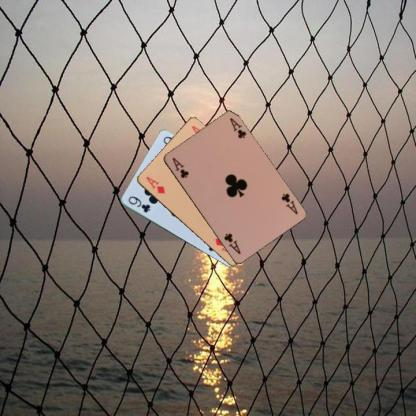9c: (126, 193, 152, 214)
Ac: (278, 190, 298, 216), (169, 155, 190, 179)
Ad: (143, 174, 166, 195)
